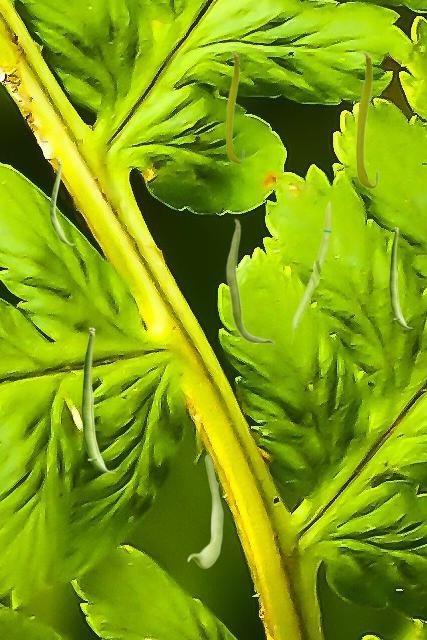french_bean: (225, 218, 274, 344), (290, 199, 332, 344), (81, 327, 115, 472), (187, 454, 222, 567), (355, 50, 377, 188), (389, 227, 412, 327), (50, 157, 76, 244), (225, 50, 243, 163)
